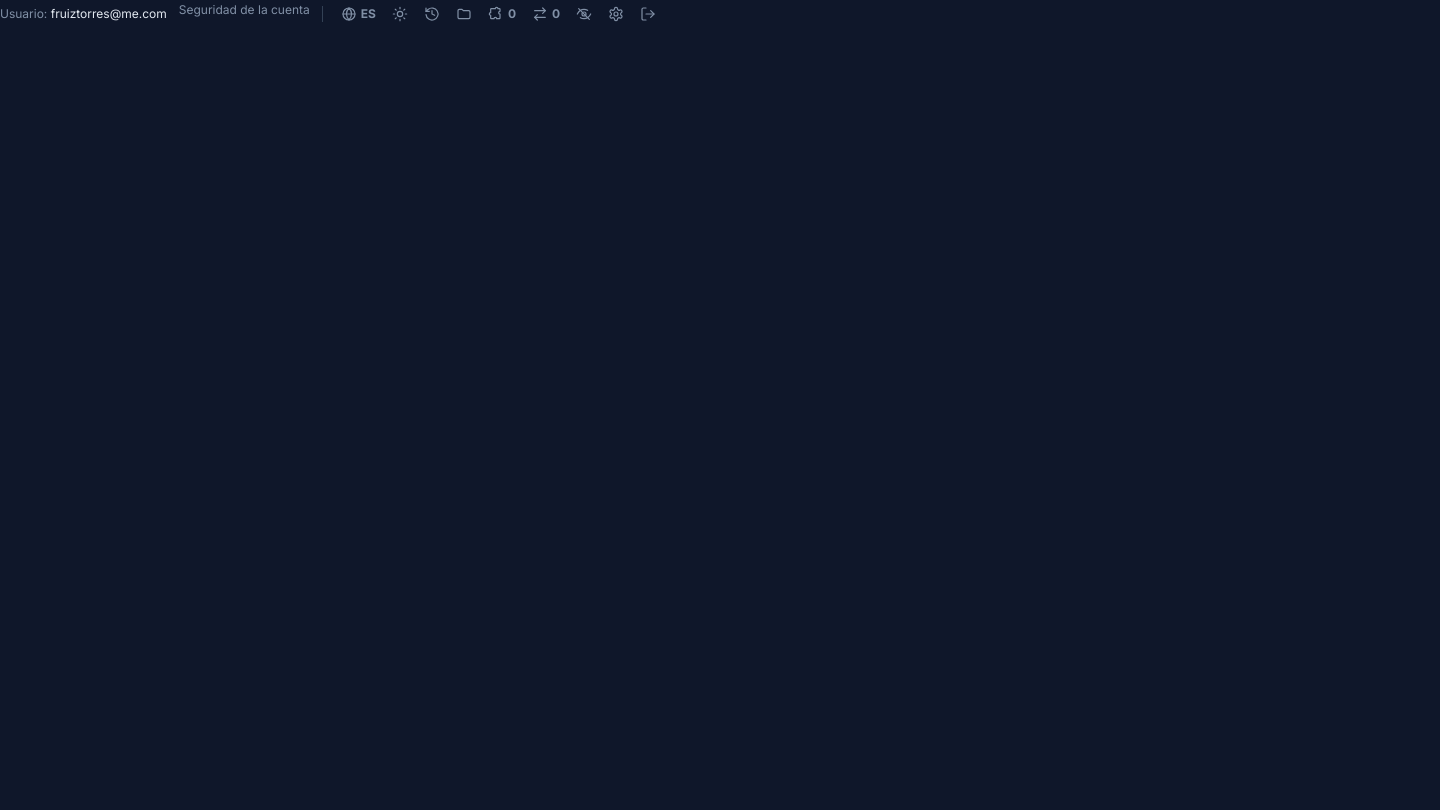
BarraUsuario — Mi cuenta › un clic en el correo abre "Mi cuenta"
Click the button "Usuario: fruiztorres@me.com". click: (83, 14)
box: [0, 2, 167, 26]
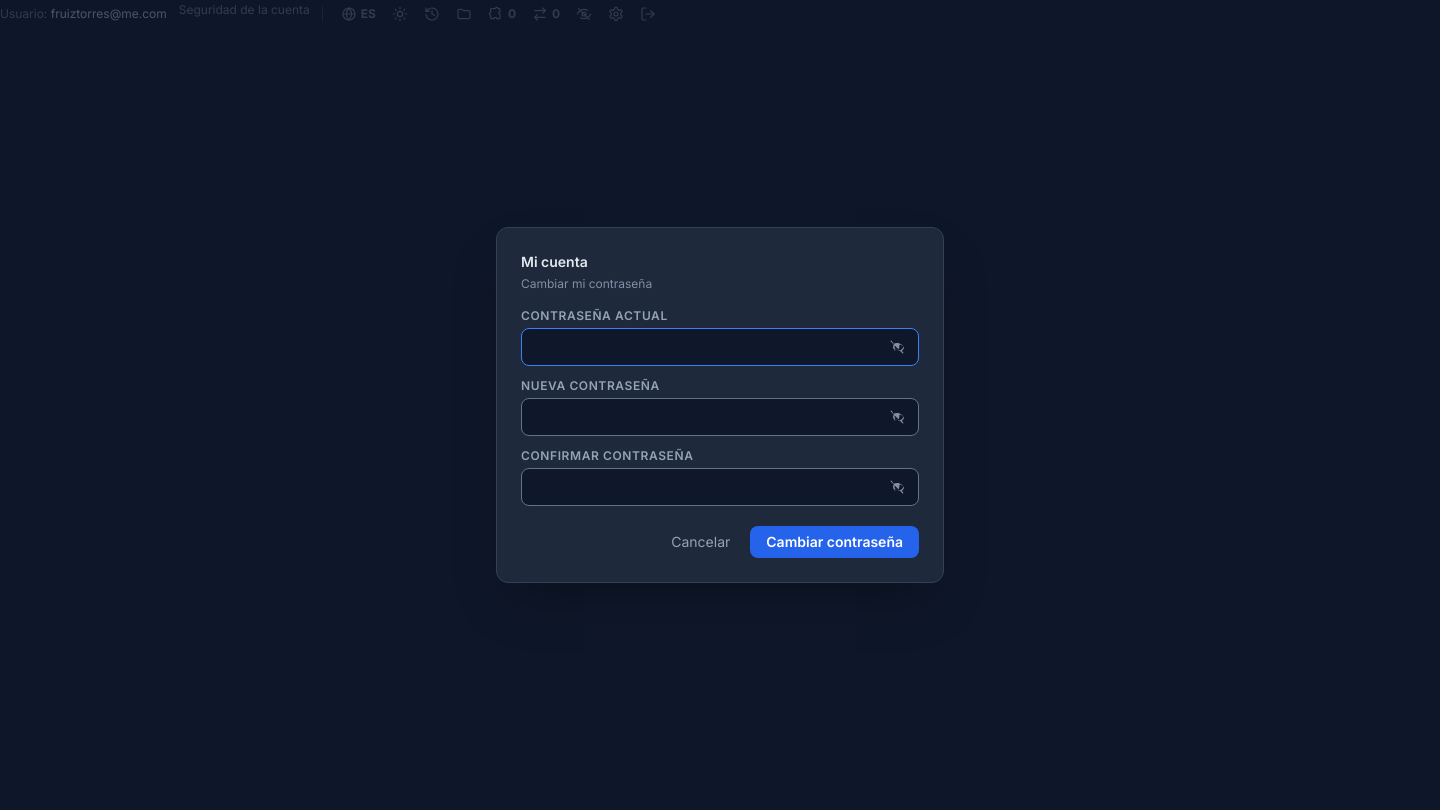
Result: the dialog "Mi cuenta" is shown at [496, 227, 944, 583]
